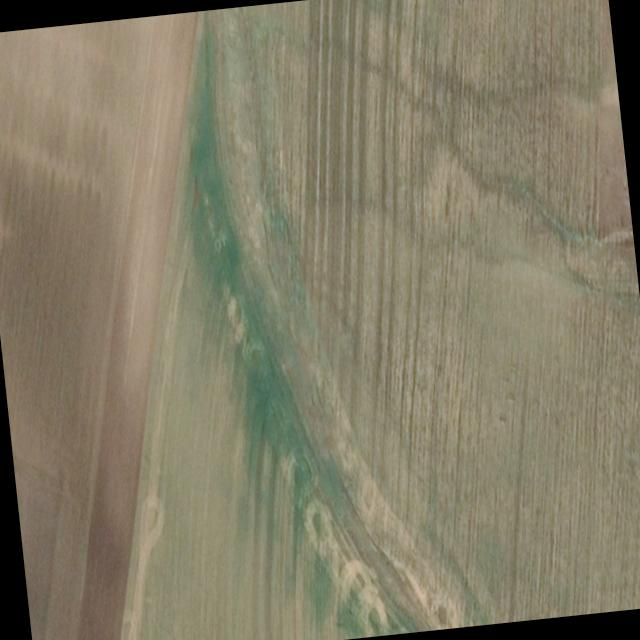bare-soil: (0, 12, 198, 640)
grass: (120, 0, 640, 640)
